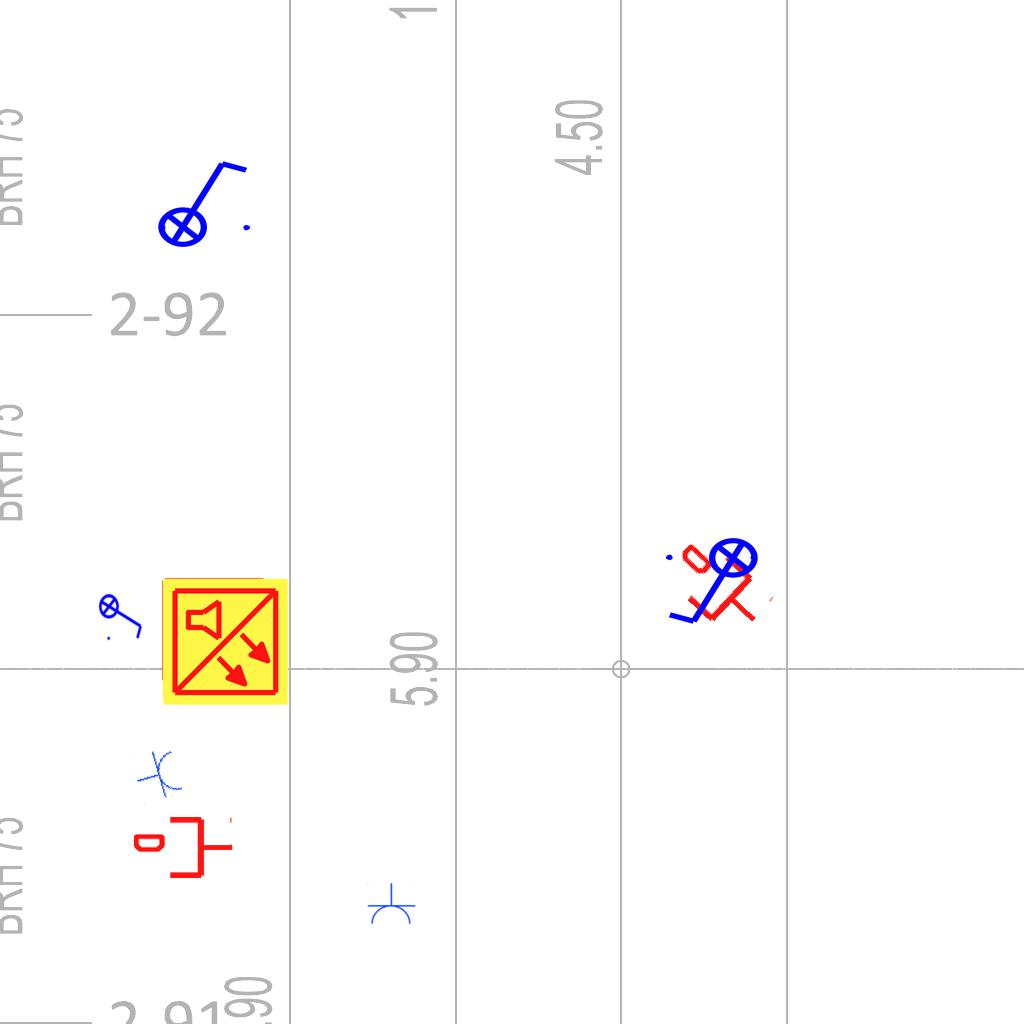Ausschalter_beleuchtet: (144, 153, 256, 249), (660, 536, 772, 632), (98, 587, 146, 643)
Datenanschluss_einfach: (658, 527, 779, 647), (134, 813, 234, 882)
OKW_Multisensormelder_(Kombination_optischer_Rauch-Kahlenmonoxid_Waerme-Melder): (159, 576, 291, 708)
Schukosteckdose_einfach: (130, 745, 186, 806), (366, 883, 416, 926)
